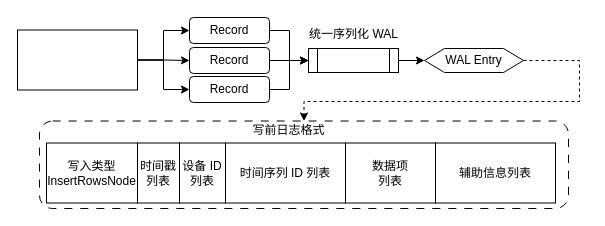
The diagram is 605 pixels wide and 226 high, and some of its shapes have lost their labels. Each missing label, with the centre of its shape:
"FragmentInstance" goes at (x=77, y=59).
"记录 WAL" goes at (x=353, y=60).
